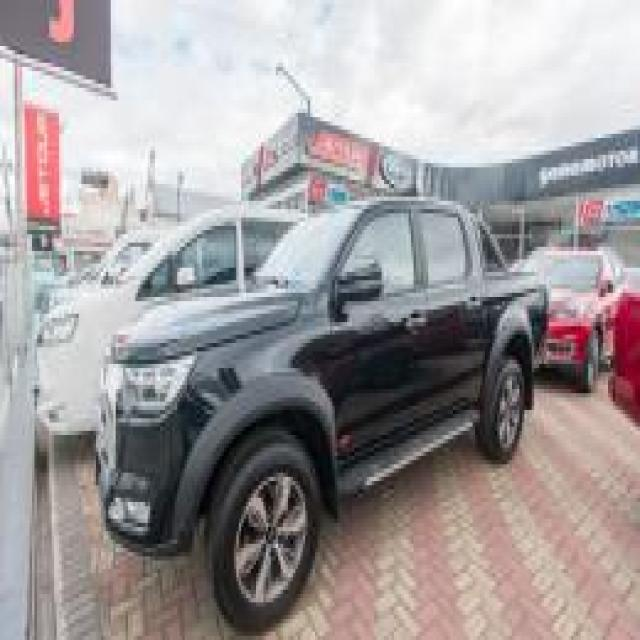CMT: (98, 201, 536, 638)
